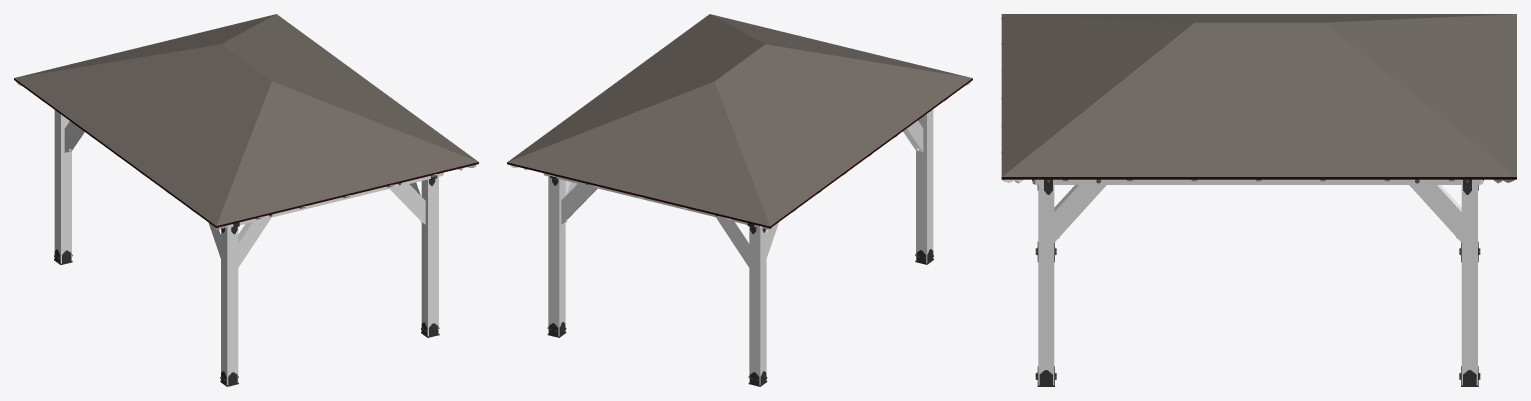
File: saratoga-12x16-ogee.obj
The picture shows the model from 3 angles, left to right: view 1: azimuth 30°, elevation 25°; view 2: azimuth 150°, elevation 25°; view 3: azimuth 270°, elevation 25°; orthographic projection. The views are drawn at different scales.
Parts seen in each view (by area): view 1: Mesh230 shingles roof Group1 Model, Mesh181 Group74 Component_92_4 Group1 Model, Mesh83 Group46 Component_92_2 Group1 Model, Mesh132 Group60 Component_92_3 Group1 Model, Mesh231 roof Group1 Model, Mesh79 Component_135_1 Group1 Model, Mesh221 Component_91_7 Component_92_4 Group1 Model, Mesh123 Component_91_3 Component_92_2 Group1 Model, Mesh176 Component_91_6 Component_92_3 Group1 Model; view 2: Mesh230 shingles roof Group1 Model, Mesh132 Group60 Component_92_3 Group1 Model, Mesh1 Group3 Component_92_1 Group2 Group1 Model, Mesh181 Group74 Component_92_4 Group1 Model, Mesh231 roof Group1 Model, Mesh172 Component_91_5 Component_92_3 Group1 Model, Mesh41 Component_91_1 Component_92_1 Group2 Group1 Model, Mesh81 Component_135_2 Group1 Model, Mesh225 Component_91_8 Component_92_4 Group1 Model; view 3: Mesh230 shingles roof Group1 Model, Mesh83 Group46 Component_92_2 Group1 Model, Mesh1 Group3 Component_92_1 Group2 Group1 Model, Mesh82 Component_134_2 Group1 Model, Mesh231 roof Group1 Model, Mesh45 Component_91_2 Component_92_1 Group2 Group1 Model, Mesh127 Component_91_4 Component_92_2 Group1 Model.
Boxes of the visible parts, x1,y1,x2,y2 form: Mesh230 shingles roof Group1 Model: (14, 14, 478, 225); Mesh181 Group74 Component_92_4 Group1 Model: (221, 227, 238, 385); Mesh83 Group46 Component_92_2 Group1 Model: (421, 177, 438, 336); Mesh132 Group60 Component_92_3 Group1 Model: (54, 110, 71, 263); Mesh231 roof Group1 Model: (14, 78, 478, 227); Mesh79 Component_135_1 Group1 Model: (224, 172, 443, 228); Mesh221 Component_91_7 Component_92_4 Group1 Model: (238, 217, 271, 267); Mesh123 Component_91_3 Component_92_2 Group1 Model: (390, 184, 425, 224); Mesh176 Component_91_6 Component_92_3 Group1 Model: (64, 121, 84, 152); Mesh230 shingles roof Group1 Model: (507, 14, 972, 226); Mesh132 Group60 Component_92_3 Group1 Model: (749, 226, 766, 385); Mesh1 Group3 Component_92_1 Group2 Group1 Model: (548, 176, 565, 336); Mesh181 Group74 Component_92_4 Group1 Model: (916, 109, 933, 263); Mesh231 roof Group1 Model: (507, 78, 972, 228); Mesh172 Component_91_5 Component_92_3 Group1 Model: (716, 217, 749, 267); Mesh41 Component_91_1 Component_92_1 Group2 Group1 Model: (561, 183, 597, 224); Mesh81 Component_135_2 Group1 Model: (543, 173, 762, 227); Mesh225 Component_91_8 Component_92_4 Group1 Model: (903, 120, 923, 152); Mesh230 shingles roof Group1 Model: (1001, 14, 1516, 176); Mesh83 Group46 Component_92_2 Group1 Model: (1038, 185, 1054, 385); Mesh1 Group3 Component_92_1 Group2 Group1 Model: (1461, 185, 1477, 385); Mesh82 Component_134_2 Group1 Model: (1043, 179, 1472, 184); Mesh231 roof Group1 Model: (1001, 177, 1516, 179); Mesh45 Component_91_2 Component_92_1 Group2 Group1 Model: (1409, 185, 1461, 242); Mesh127 Component_91_4 Component_92_2 Group1 Model: (1054, 185, 1106, 242).
Bounding box in the file's own units: 144 × 123 × 192.
